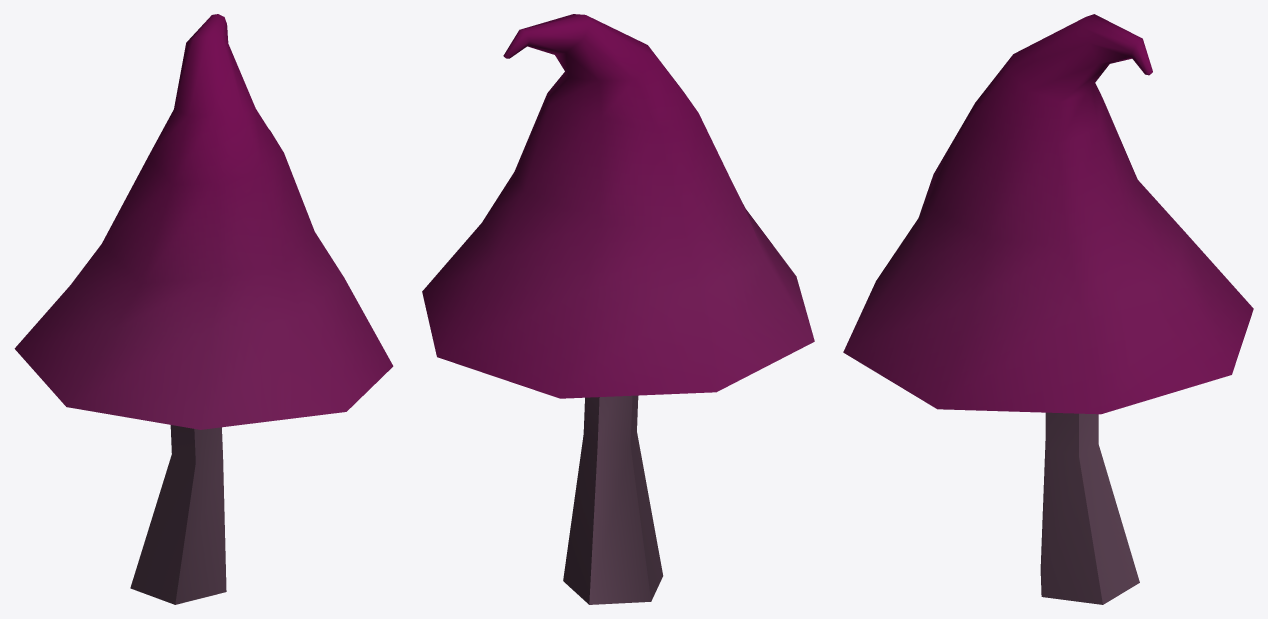
Rendered from Mushroom_cap.fbx.
3 views of the same model, side by side, from view 1: azimuth 30°, elevation 25°; view 2: azimuth 150°, elevation 25°; view 3: azimuth 270°, elevation 25° (orthographic). The views are drawn at different scales.
Parts seen in each view (by area): view 1: Mushroom_cap1; view 2: Mushroom_cap1; view 3: Mushroom_cap1.
Part boxes in pixels (x1,y1,x2,y2): Mushroom_cap1: (14,14,393,604); Mushroom_cap1: (422,14,814,604); Mushroom_cap1: (843,14,1253,604).
Bounding box in the file's own units: 70.95 × 111 × 71.07.
